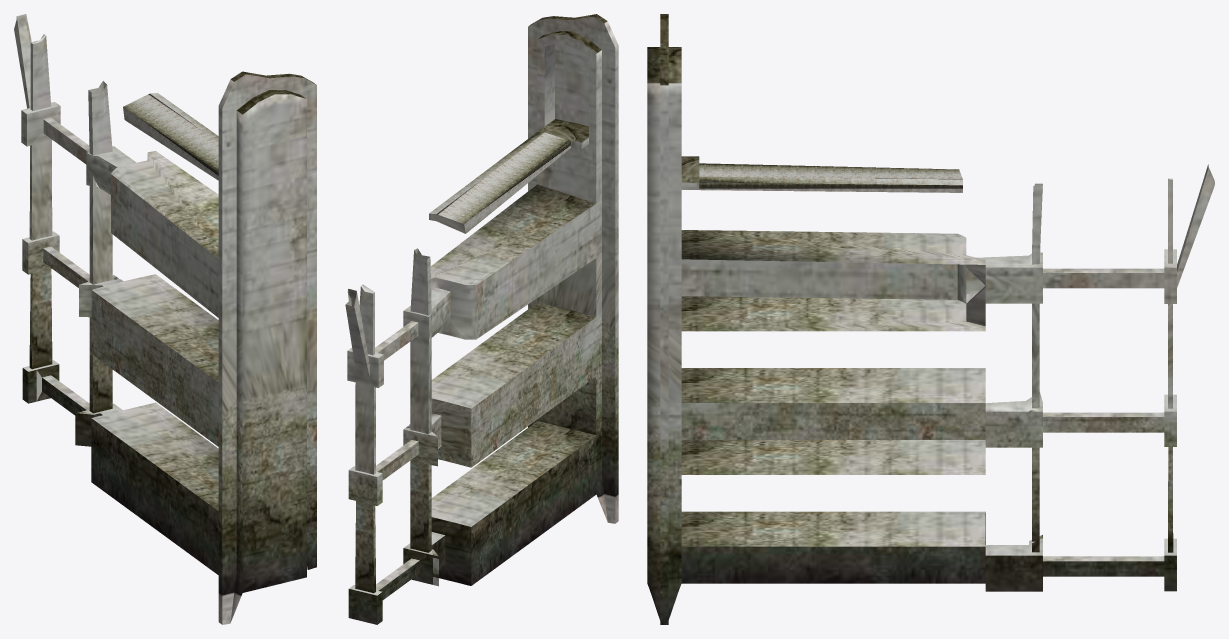
The model's file is Elemento del escenario 2 obj.obj.
3 renders of one model, left to right at view 1: azimuth 30°, elevation 25°; view 2: azimuth 150°, elevation 25°; view 3: azimuth 270°, elevation 25°, orthographic. The views are drawn at different scales.
Visible parts, largest first — view 1: Elemento del escenario 2 obj; view 2: Elemento del escenario 2 obj; view 3: Elemento del escenario 2 obj.
Part boxes in pixels (x1,y1,x2,y2): Elemento del escenario 2 obj: [14, 14, 316, 624]; Elemento del escenario 2 obj: [345, 14, 618, 624]; Elemento del escenario 2 obj: [647, 14, 1214, 624].
Bounding box in the file's own units: 4.74 × 26.11 × 21.99.
1 material, 1 textured.
